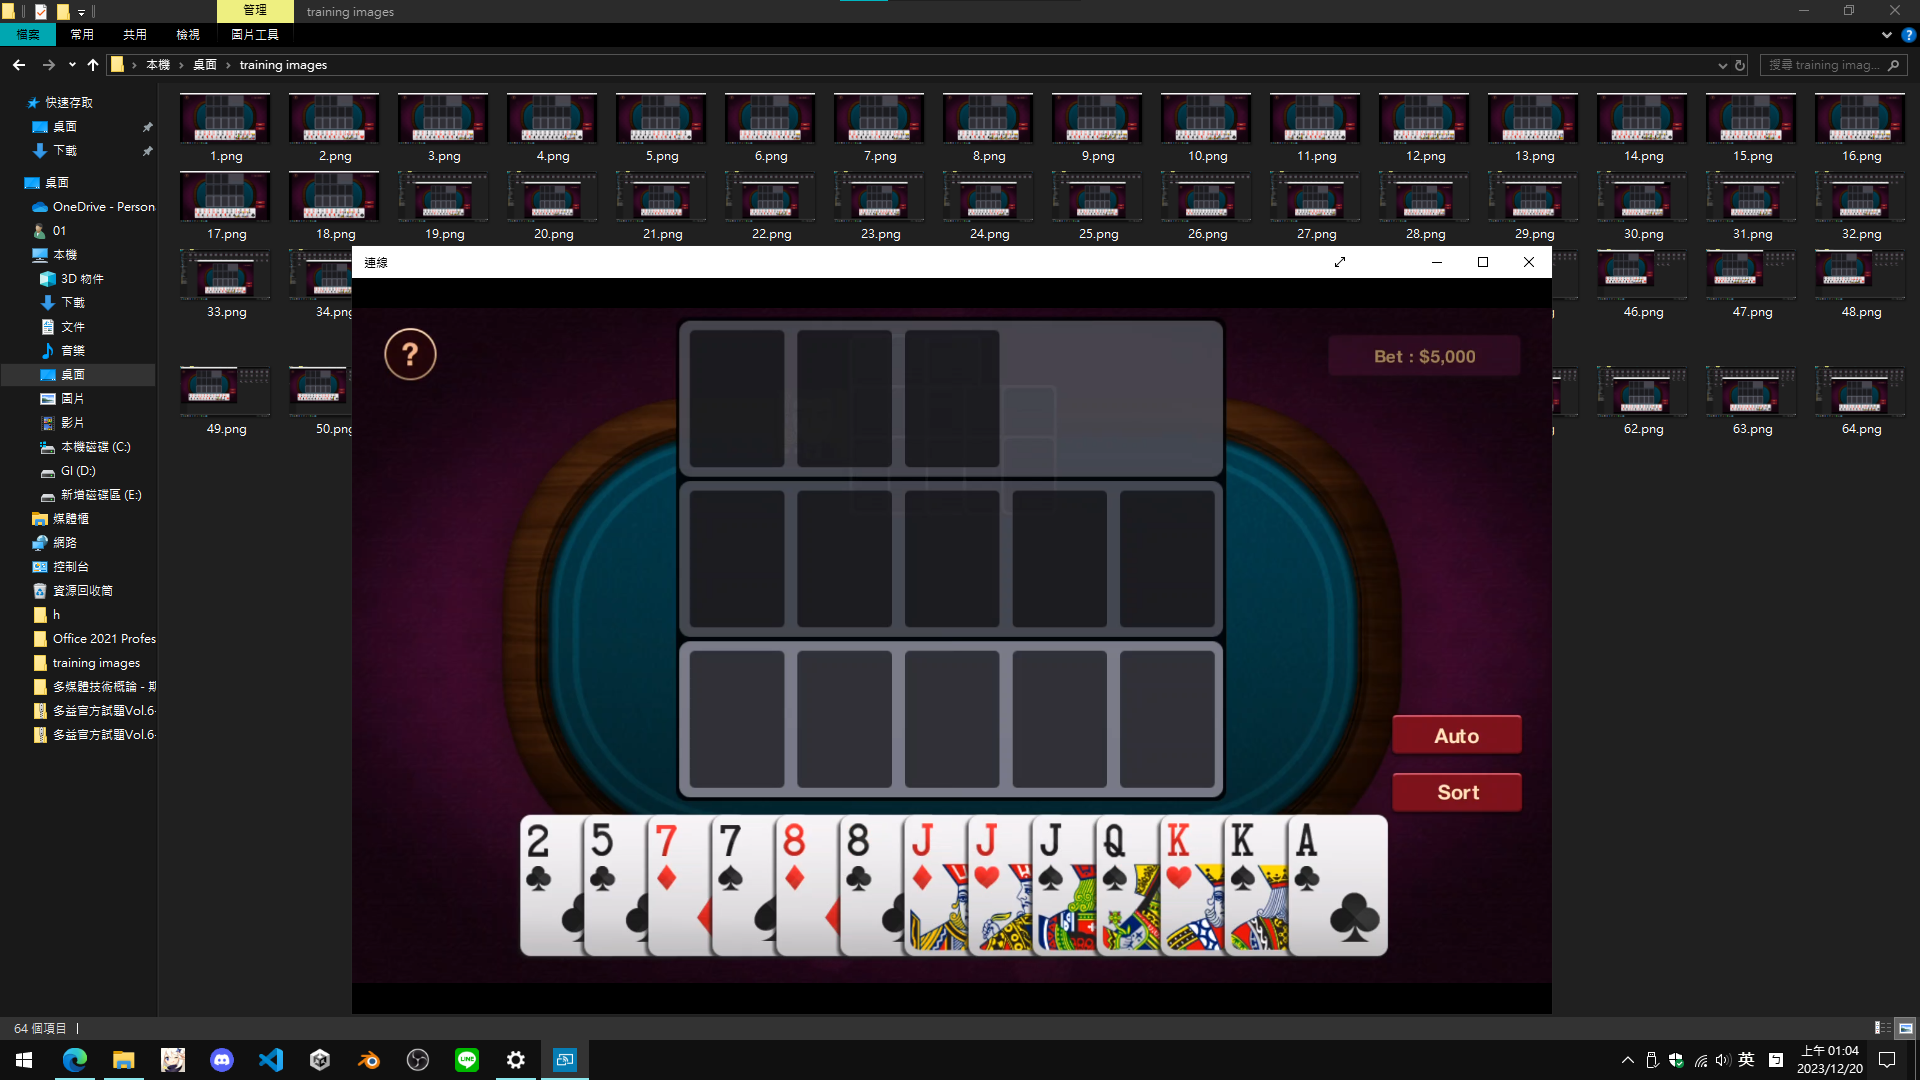2C: (525, 820, 553, 896)
5C: (588, 820, 617, 899)
7D: (652, 821, 681, 892)
7S: (716, 819, 745, 896)
8C: (844, 820, 873, 896)
8D: (780, 820, 808, 895)
AC: (1292, 819, 1321, 897)
JD: (909, 820, 937, 895)
JH: (971, 819, 1003, 892)
JS: (1036, 817, 1065, 893)
KH: (1164, 820, 1195, 891)
KS: (1228, 817, 1257, 893)
QS: (1099, 820, 1131, 895)
